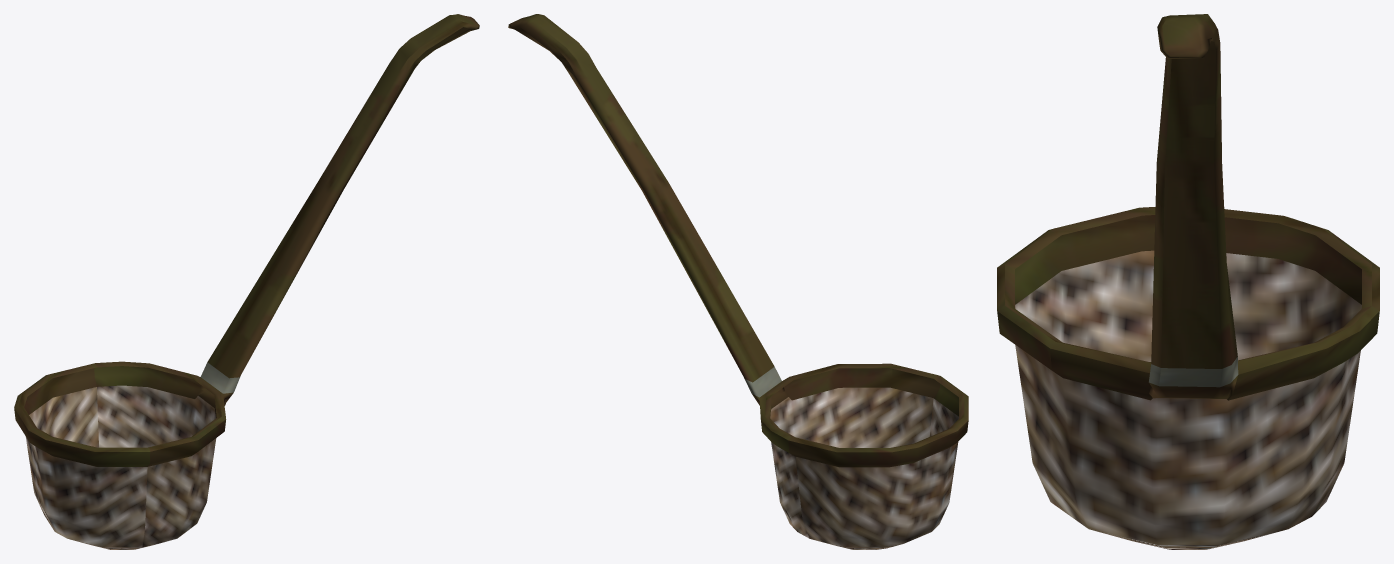
Rendered from M_LouchePecheB.fbx.
3 renders of one model, left to right at view 1: azimuth 30°, elevation 25°; view 2: azimuth 150°, elevation 25°; view 3: azimuth 270°, elevation 25°, orthographic. The views are drawn at different scales.
Parts seen in each view (by area): view 1: Louche2; view 2: Louche2; view 3: Louche2.
Boxes of the visible parts, x1,y1,x2,y2 form: Louche2: (14, 14, 479, 549); Louche2: (508, 14, 968, 549); Louche2: (997, 14, 1379, 549).
Bounding box in the file's own units: 49.29 × 46.44 × 19.91.
